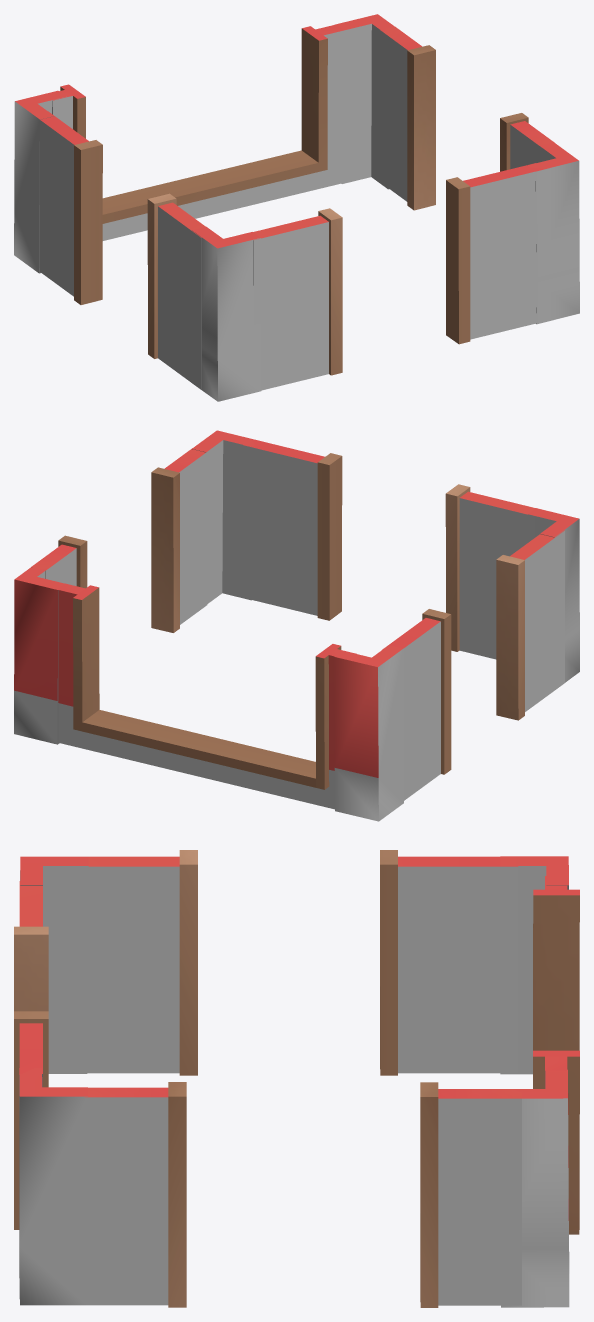
The model's file is LIBRERIA.fbx.
3 views of the same model, one above another, from view 1: azimuth 30°, elevation 25°; view 2: azimuth 150°, elevation 25°; view 3: azimuth 270°, elevation 25° (orthographic). The views are drawn at different scales.
Visible parts, largest first — view 1: paret_puerta38, paret_puerta36, paret_con_ventana_grande18, paret_con_borde10, paret_esquina_65, paret_esquina_67, paret_esquina_56, paret_esquina_71, paret_con_borde11; view 2: paret_puerta38, paret_puerta36, paret_con_ventana_grande18, paret_esquina_71, paret_con_borde11, paret_esquina_56, paret_esquina_67, paret_esquina_65, paret_con_borde10; view 3: paret_puerta36, paret_con_borde11, paret_con_borde10, paret_esquina_67, paret_esquina_56, paret_con_ventana_grande18, paret_esquina_65, paret_puerta38, paret_esquina_71.
Boxes of the visible parts, <box> form: paret_puerta38: <box>253,163,544,390</box>; paret_puerta36: <box>40,111,205,389</box>; paret_con_ventana_grande18: <box>52,24,344,240</box>; paret_con_borde10: <box>380,26,435,210</box>; paret_esquina_65: <box>192,226,261,401</box>; paret_esquina_67: <box>527,142,579,324</box>; paret_esquina_56: <box>335,14,394,189</box>; paret_esquina_71: <box>14,90,66,273</box>; paret_con_borde11: <box>500,113,554,171</box>; paret_puerta38: <box>243,439,535,659</box>; paret_puerta36: <box>382,530,564,800</box>; paret_con_ventana_grande18: <box>57,583,356,809</box>; paret_esquina_71: <box>334,645,403,821</box>; paret_con_borde11: <box>151,448,207,632</box>; paret_esquina_56: <box>14,567,64,744</box>; paret_esquina_67: <box>192,430,254,603</box>; paret_esquina_65: <box>527,508,579,682</box>; paret_con_borde10: <box>31,535,87,588</box>; paret_puerta36: <box>87,850,518,1075</box>; paret_con_borde11: <box>84,1082,186,1307</box>; paret_con_borde10: <box>420,1082,521,1307</box>; paret_esquina_67: <box>19,1068,88,1305</box>; paret_esquina_56: <box>501,1069,569,1307</box>; paret_con_ventana_grande18: <box>533,876,579,1234</box>; paret_esquina_65: <box>20,856,88,1073</box>; paret_puerta38: <box>14,881,48,1229</box>; paret_esquina_71: <box>500,856,568,1074</box>.
Size of the model in its own units: 841 by 343 by 820.
